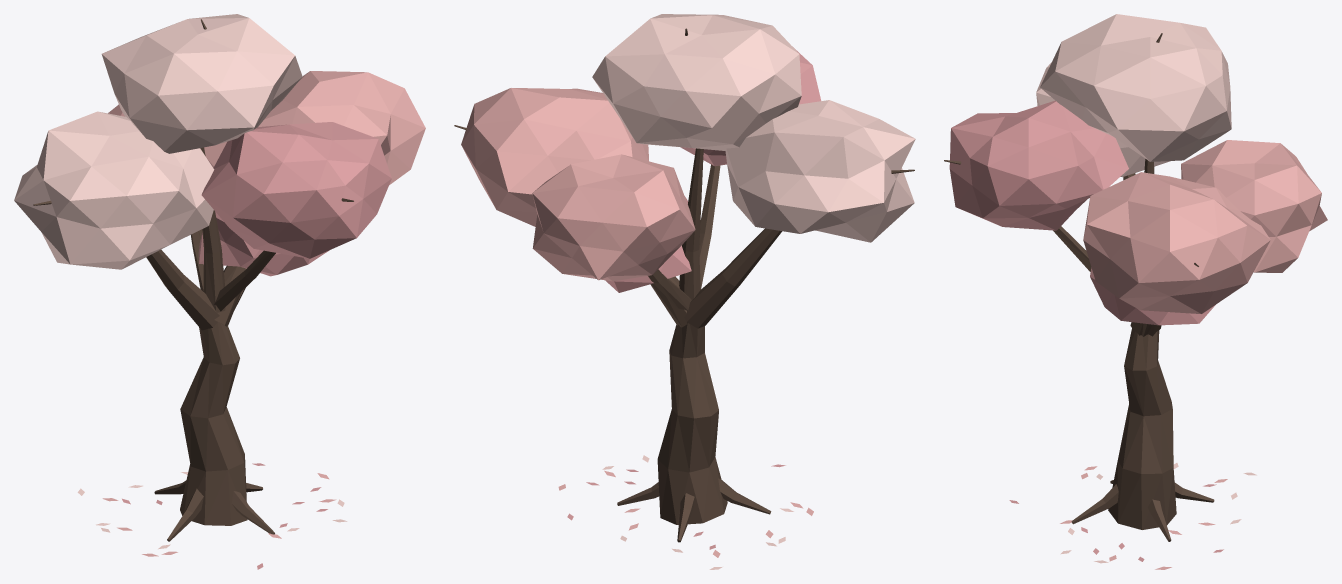
Rendered from cherry_tree_a.glb.
3 views of the same model, side by side, from view 1: azimuth 30°, elevation 25°; view 2: azimuth 150°, elevation 25°; view 3: azimuth 270°, elevation 25° (orthographic). The views are drawn at different scales.
Parts seen in each view (by area): view 1: cherry_tree_a; view 2: cherry_tree_a; view 3: cherry_tree_a.
Part boxes in pixels (x1=…): cherry_tree_a: x1=14, y1=14, x2=425, y2=569; cherry_tree_a: x1=454, y1=14, x2=915, y2=569; cherry_tree_a: x1=944, y1=14, x2=1327, y2=569.
Bounding box in the file's own units: 7.03 × 8.05 × 5.81.
